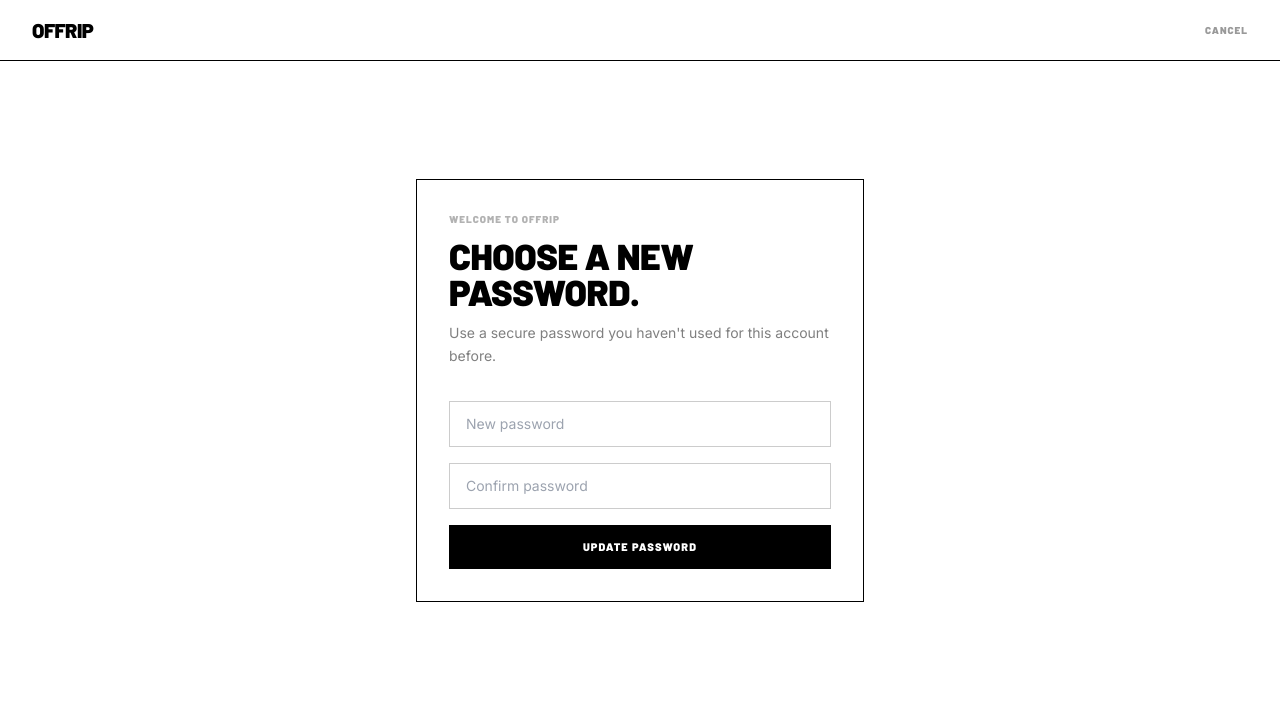
Scenario: reset password › requires matching passwords
Step 1. Type "secure-password" into the password field labelled "New password" → [640, 424], box [449, 400, 831, 446]
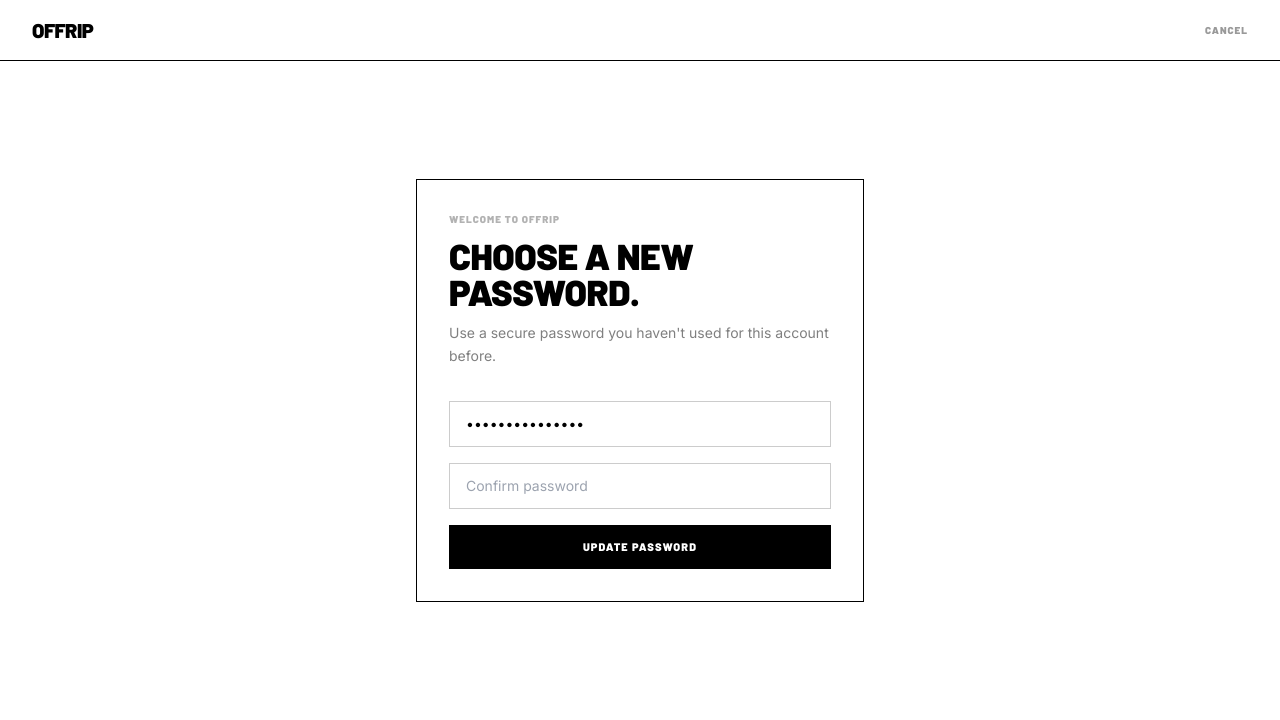
Step 2. Type "different-password" into the password field labelled "Confirm password" → [640, 486], box [449, 462, 831, 508]
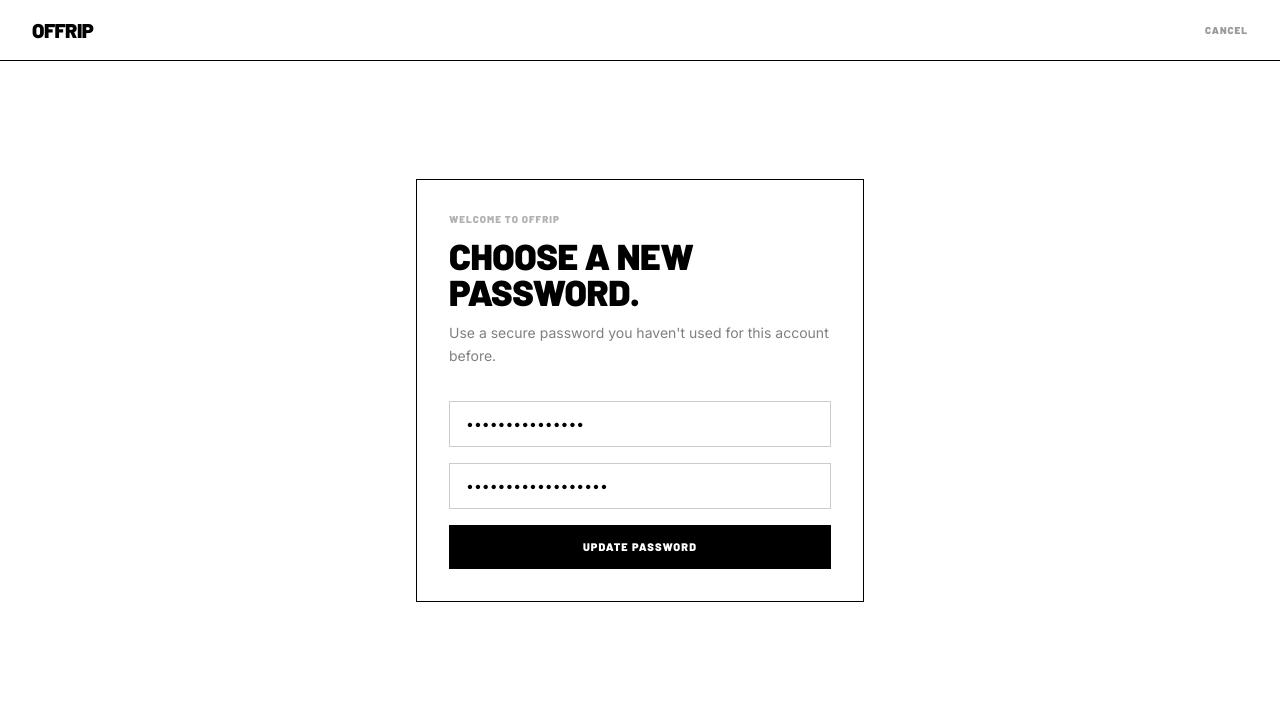
Step 3. Submit the form "Update password", box [449, 400, 831, 569]
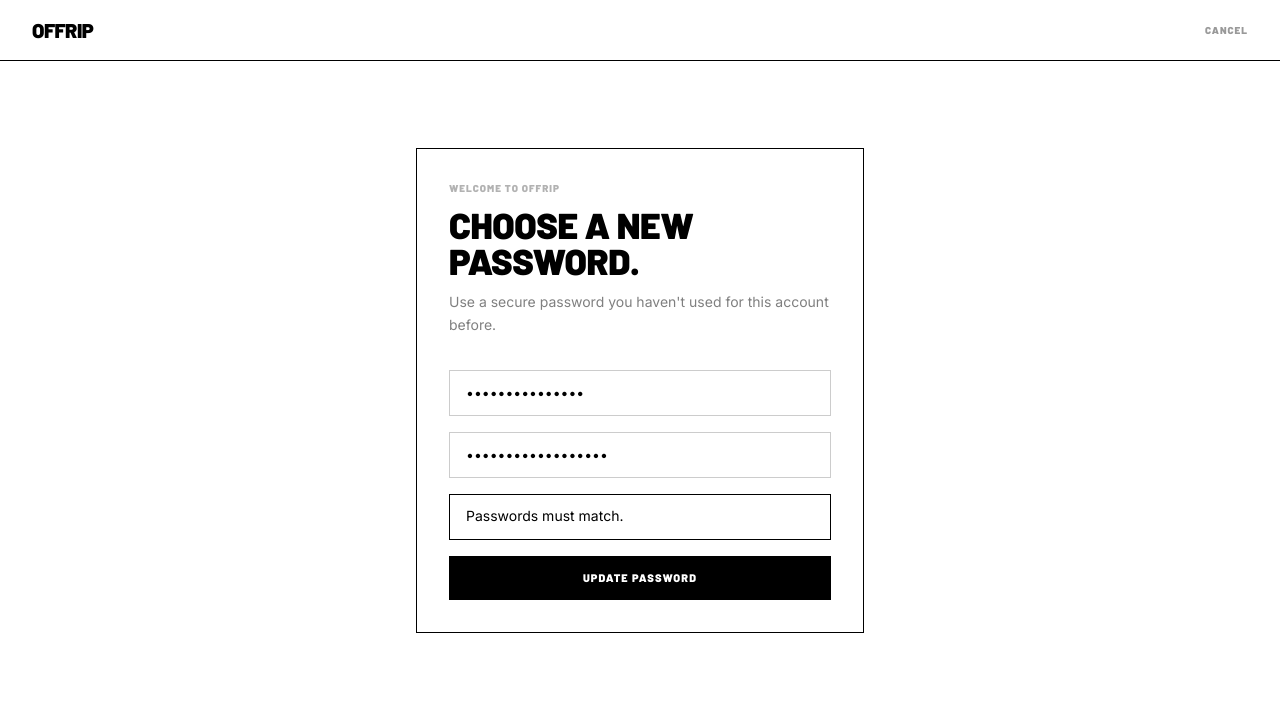
Expected: the message reads "Passwords must match.", [466, 508, 624, 524]
